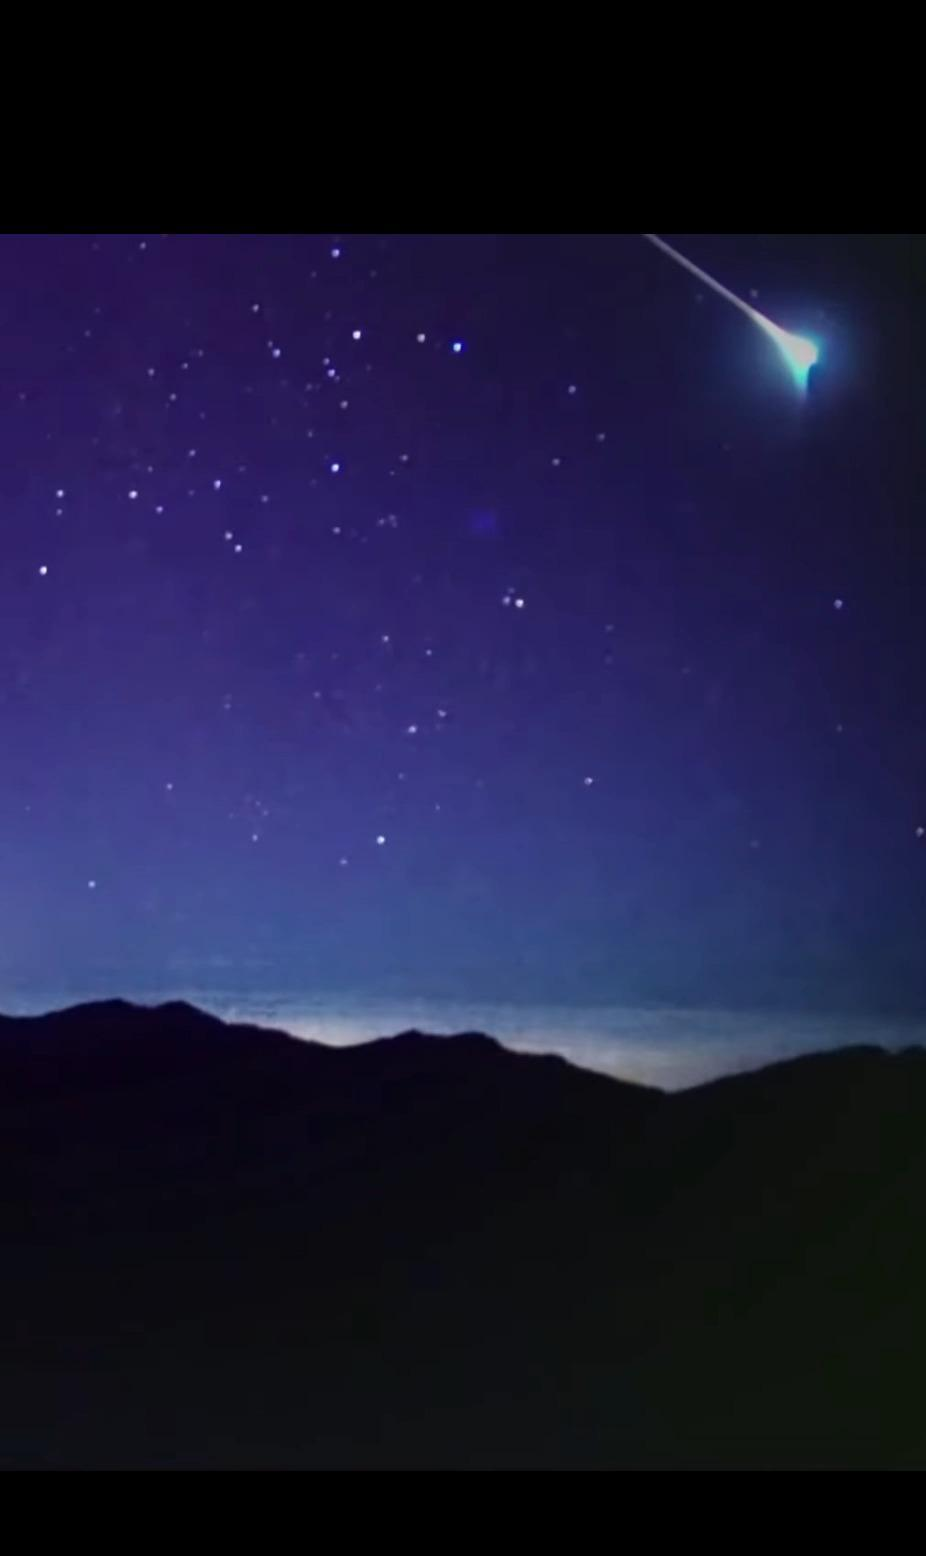meteorite: (640, 237, 839, 401)
